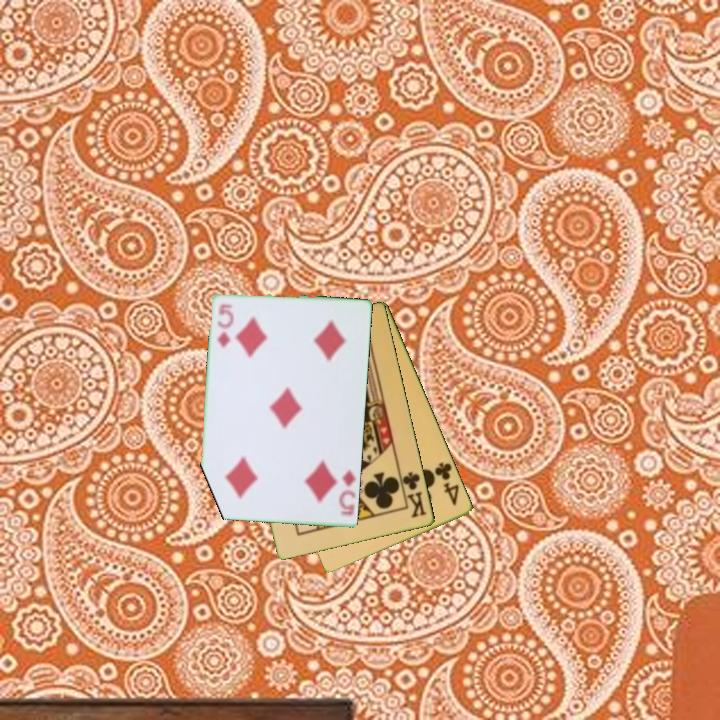4c: (431, 459, 463, 509)
5d: (335, 466, 359, 518), (214, 301, 236, 352)
Kc: (397, 468, 429, 521)
